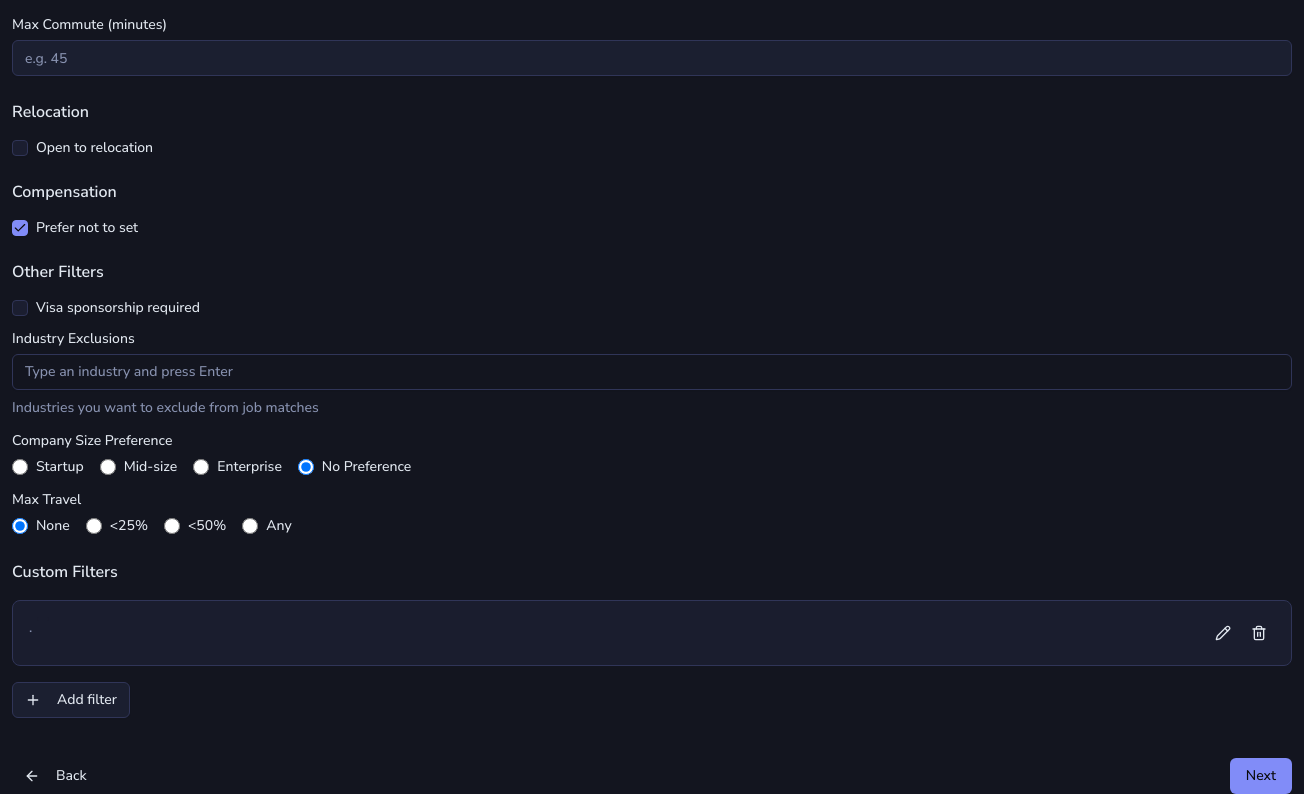
Test: NonNegotiablesStep › form submission › shows submit error on API failure
This screenshot has width=1304, height=794.
(page scrolled)
Step 1. Click the button with test id "submit-button" → (1261, 776), box [1230,758,1292,793]
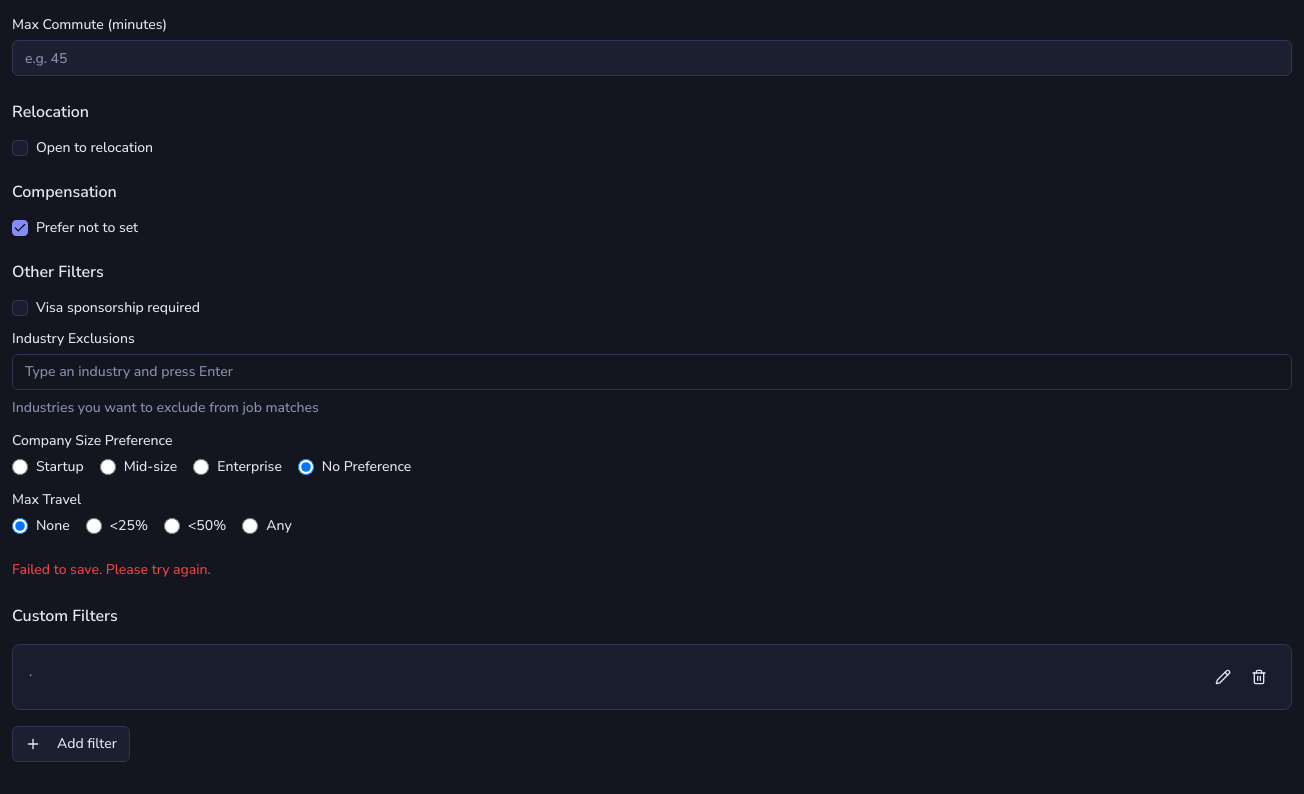
Now the message with test id "submit-error" reads "Failed to save. Please try again.", box [12,560,211,579]
